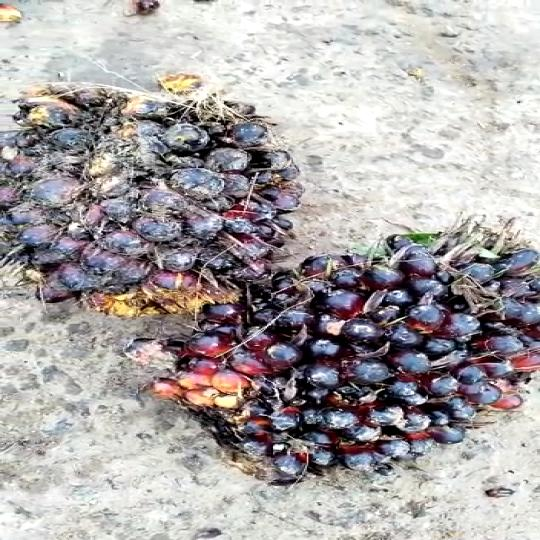kurang masak: (166, 194, 535, 492), (0, 80, 326, 332)
